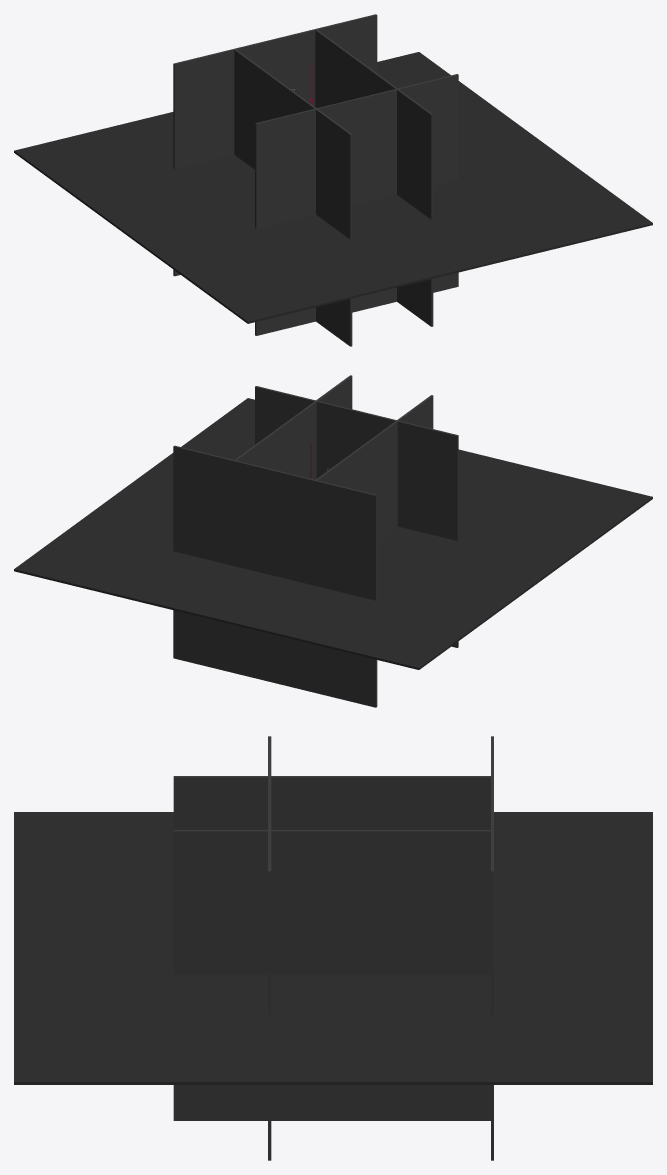
3 views of the same model, one above another, from view 1: azimuth 30°, elevation 25°; view 2: azimuth 150°, elevation 25°; view 3: azimuth 270°, elevation 25° (orthographic). The views are drawn at different scales.
Parts seen in each view (by area): view 1: Floor, Wall, Wall (3), Wall (1), Wall (2); view 2: Floor, Wall (3), Wall, Wall (1), Wall (2); view 3: Floor, Wall (2), Wall (1), Wall, Wall (3).
Part boxes in pixels (left/top/right/bottom): Floor: left=14, top=52, right=652, bottom=323; Wall: left=255, top=74, right=458, bottom=335; Wall (3): left=173, top=14, right=377, bottom=276; Wall (1): left=234, top=49, right=352, bottom=346; Wall (2): left=315, top=29, right=433, bottom=326; Floor: left=14, top=398, right=652, bottom=669; Wall (3): left=173, top=445, right=377, bottom=707; Wall: left=255, top=386, right=458, bottom=647; Wall (1): left=316, top=395, right=433, bottom=540; Wall (2): left=234, top=375, right=352, bottom=479; Floor: left=14, top=812, right=652, bottom=1084; Wall (2): left=173, top=830, right=490, bottom=1120; Wall (1): left=173, top=776, right=490, bottom=829; Wall: left=268, top=736, right=271, bottom=1160; Wall (3): left=491, top=736, right=493, bottom=1160.
Size of the model in its own units: 200 by 101 by 200.
5 materials, 2 textured.
